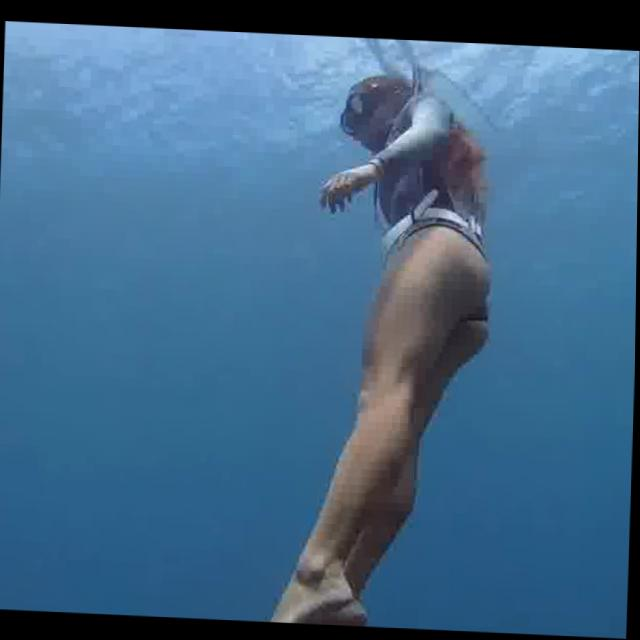human: (225, 43, 519, 630)
